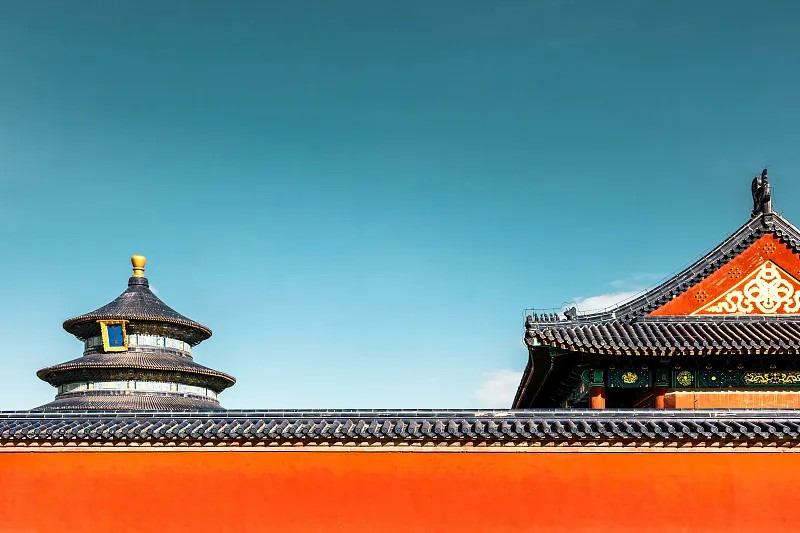Heaven: (31, 254, 235, 412)
